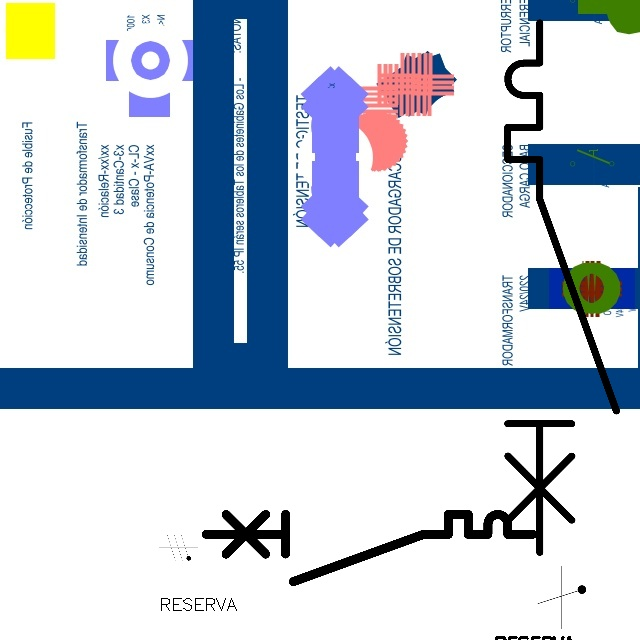interruptor_termomagnetico: (494, 9, 630, 565), (197, 506, 540, 590)
